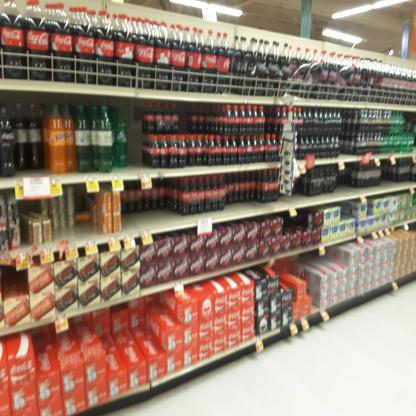Void: (104, 313, 160, 354), (122, 184, 176, 218), (180, 101, 215, 132), (75, 192, 93, 241), (0, 266, 25, 296), (130, 106, 142, 168), (285, 210, 308, 232)
